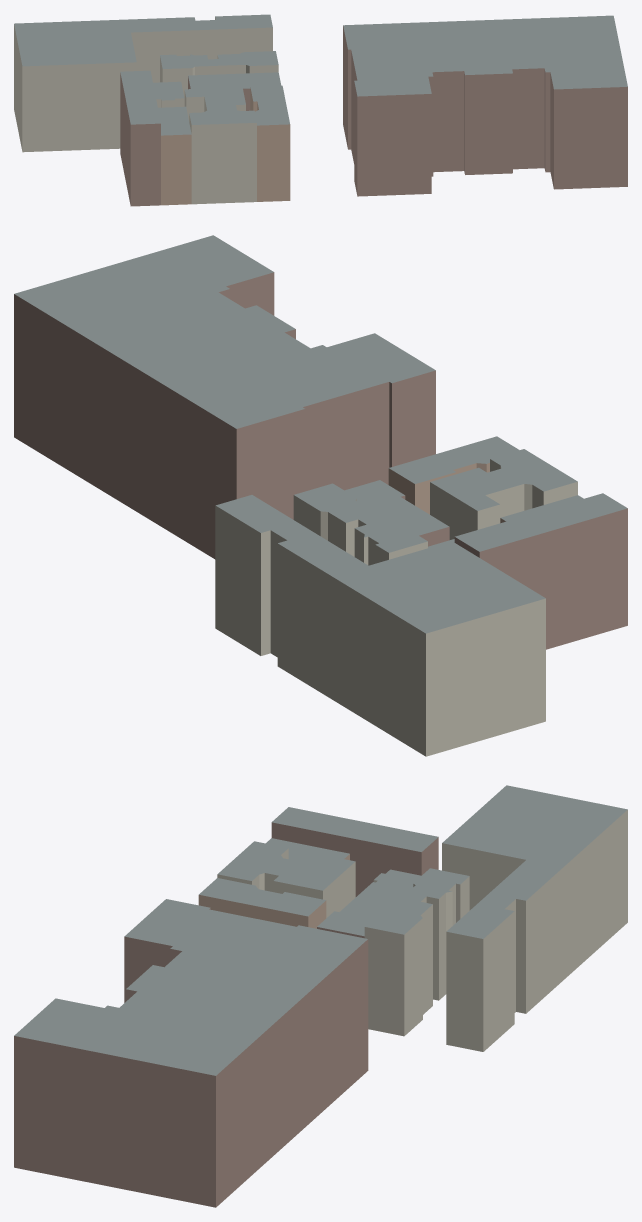
File: context-0--1.gltf
3 views of the same model, one above another, from view 1: azimuth 30°, elevation 25°; view 2: azimuth 150°, elevation 25°; view 3: azimuth 270°, elevation 25° (orthographic). The views are drawn at different scales.
Parts seen in each view (by area): view 1: context-0--1; view 2: context-0--1; view 3: context-0--1.
Boxes of the visible parts, <box> form: context-0--1: <box>14,14,627,206</box>; context-0--1: <box>14,235,627,756</box>; context-0--1: <box>14,785,627,1207</box>.
Size of the model in its own units: 124 by 24.69 by 104.
